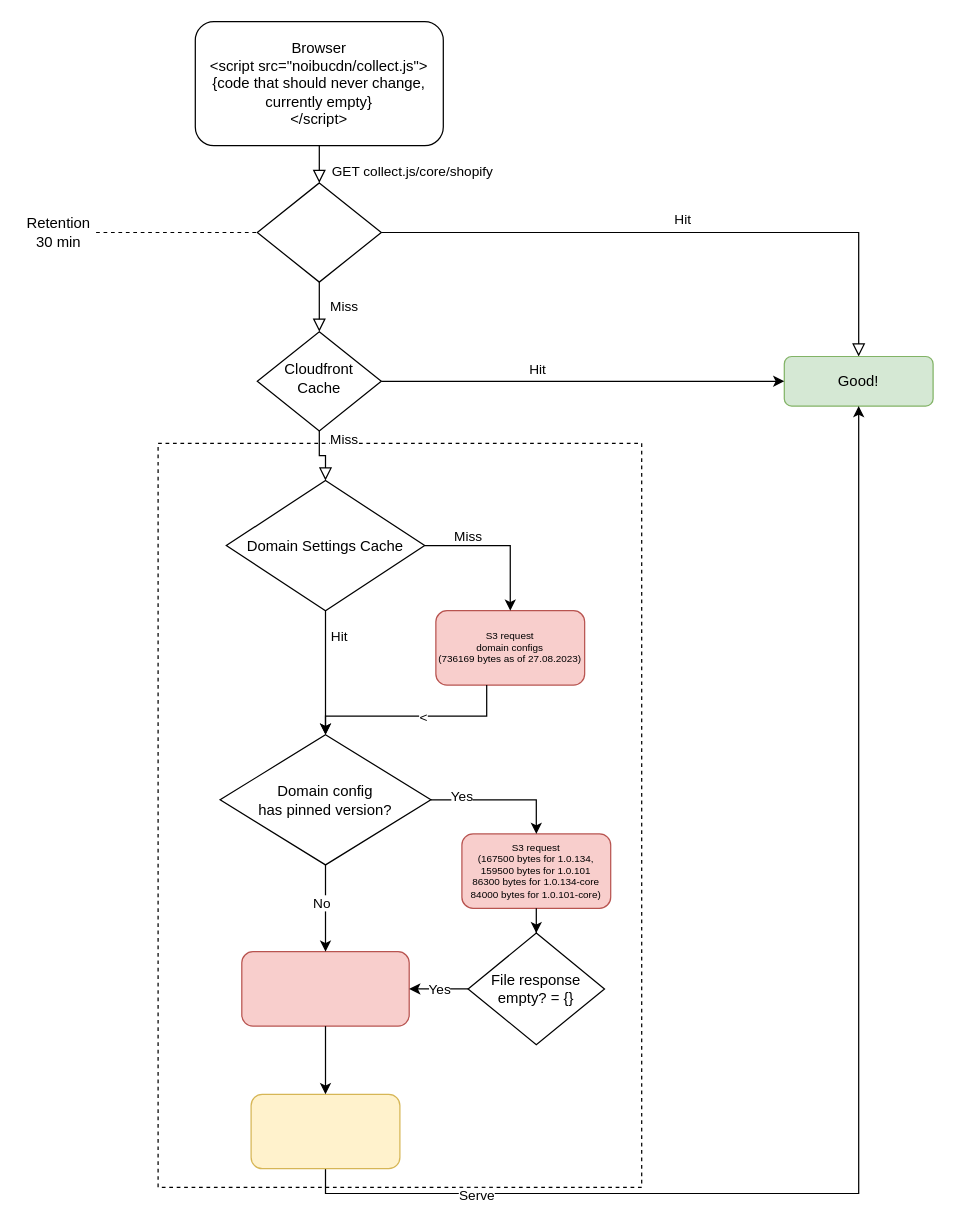
Image size: 955x1225. Some labels were removed from this diagram. Here are the shapes that lost their labels. From the top down, the box of each, then its label:
(256, 182, 381, 282): Browser Cache
(157, 442, 642, 1187): Lambda Handler
(241, 950, 409, 1026): S3 request ( 159500 bytes for 1.0.101, grows to 167500 when we GA 134)
(250, 1093, 400, 1169): Gzip
